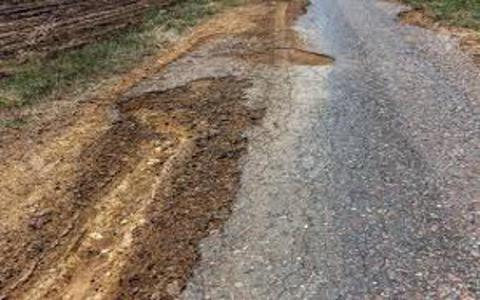patchy roads: (186, 60, 343, 284)
